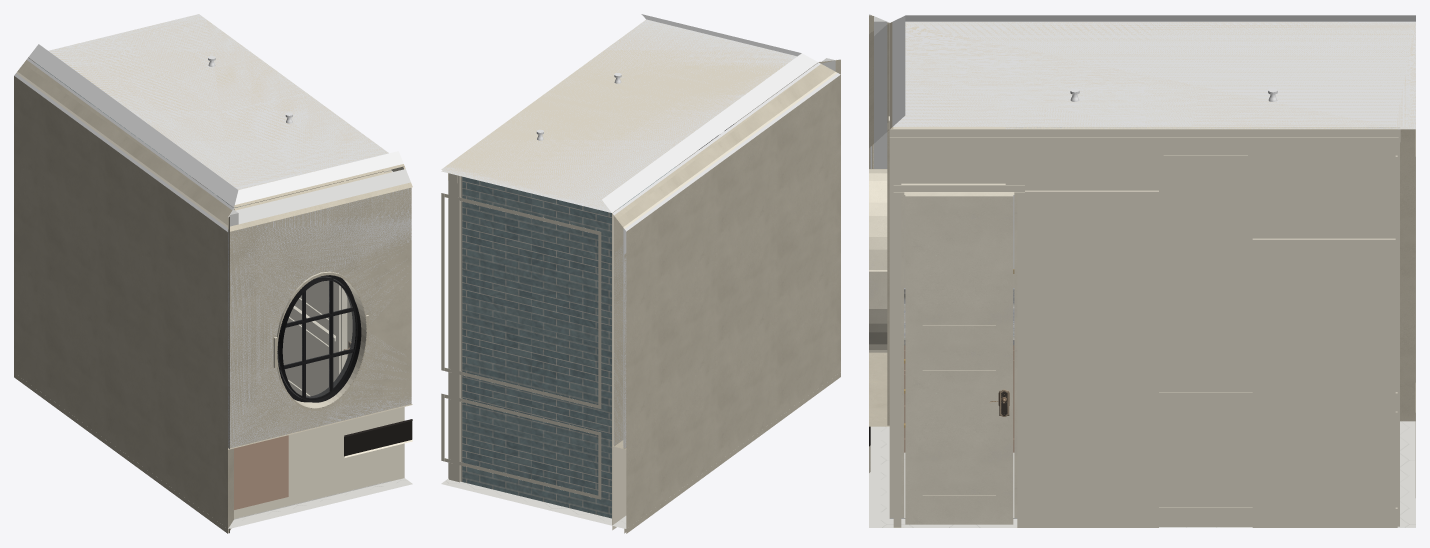
Rendered from blue-bath-57ace6b4a91e.glb.
The picture shows the model from 3 angles, left to right: view 1: azimuth 30°, elevation 25°; view 2: azimuth 150°, elevation 25°; view 3: azimuth 270°, elevation 25°; orthographic projection. The views are drawn at different scales.
Visible parts, largest first — view 1: blue-bath-312b4ac1be39223d, blue-bath-bddaf205afbd60c0, blue-bath-9d91b47435c6fb33, blue-bath-e8793759323e04f0, blue-bath-33ee0b466567e5f0, blue-bath-df3e1f21720b0c39, blue-bath-2f7d8eff34a2c180, blue-bath-99b308e00d07c4e6, blue-bath-39b94aca90fa4b53, blue-bath-c700045fb7c0d89d, blue-bath-bb2a37e95c56944b, blue-bath-15eb02824125a7e3 (+8 smaller); view 2: blue-bath-312b4ac1be39223d, blue-bath-81319d6284883901, blue-bath-e8793759323e04f0, blue-bath-9d91b47435c6fb33, blue-bath-33ee0b466567e5f0, blue-bath-39b94aca90fa4b53, blue-bath-ed5fdcd3ee9c0dd5, blue-bath-3a4d9d62ecd7be1c, blue-bath-06754748489735a0, blue-bath-6e269356ae8bfd70, blue-bath-b63ee86b16afd4c0, blue-bath-0e16aad907f7d881 (+1 smaller); view 3: blue-bath-9d91b47435c6fb33, blue-bath-ed5fdcd3ee9c0dd5, blue-bath-15eb02824125a7e3, blue-bath-ead09a0b3f9e3bd9, blue-bath-bf159a19de53e60e, blue-bath-e8793759323e04f0, blue-bath-8f5d8501f6e548f5, blue-bath-ee54b1ef49f48029, blue-bath-6e269356ae8bfd70, blue-bath-0e16aad907f7d881, blue-bath-cbc06dee74176276, blue-bath-e55ba151bf6688a8 (+10 smaller).
Boxes of the visible parts, x1,y1,x2,y2 form: blue-bath-312b4ac1be39223d: [14, 73, 229, 449]; blue-bath-bddaf205afbd60c0: [230, 182, 411, 447]; blue-bath-9d91b47435c6fb33: [28, 14, 404, 207]; blue-bath-e8793759323e04f0: [30, 14, 403, 204]; blue-bath-33ee0b466567e5f0: [14, 293, 228, 533]; blue-bath-df3e1f21720b0c39: [229, 184, 412, 448]; blue-bath-2f7d8eff34a2c180: [228, 404, 412, 533]; blue-bath-99b308e00d07c4e6: [278, 277, 354, 397]; blue-bath-39b94aca90fa4b53: [17, 60, 238, 226]; blue-bath-c700045fb7c0d89d: [277, 275, 366, 402]; blue-bath-bb2a37e95c56944b: [234, 435, 288, 509]; blue-bath-15eb02824125a7e3: [286, 183, 335, 395]; blue-bath-312b4ac1be39223d: [624, 59, 840, 449]; blue-bath-81319d6284883901: [462, 177, 611, 518]; blue-bath-e8793759323e04f0: [441, 14, 815, 210]; blue-bath-9d91b47435c6fb33: [442, 19, 817, 212]; blue-bath-33ee0b466567e5f0: [612, 293, 840, 533]; blue-bath-39b94aca90fa4b53: [614, 58, 835, 447]; blue-bath-ed5fdcd3ee9c0dd5: [449, 173, 460, 482]; blue-bath-3a4d9d62ecd7be1c: [612, 61, 821, 446]; blue-bath-06754748489735a0: [441, 193, 601, 408]; blue-bath-6e269356ae8bfd70: [441, 170, 618, 524]; blue-bath-b63ee86b16afd4c0: [441, 393, 601, 499]; blue-bath-0e16aad907f7d881: [441, 478, 626, 528]; blue-bath-9d91b47435c6fb33: [890, 21, 1415, 129]; blue-bath-ed5fdcd3ee9c0dd5: [1005, 127, 1399, 527]; blue-bath-15eb02824125a7e3: [1017, 190, 1158, 527]; blue-bath-ead09a0b3f9e3bd9: [1252, 238, 1395, 527]; blue-bath-bf159a19de53e60e: [905, 195, 1013, 524]; blue-bath-e8793759323e04f0: [892, 15, 1415, 126]; blue-bath-8f5d8501f6e548f5: [889, 129, 1398, 146]; blue-bath-ee54b1ef49f48029: [889, 146, 1005, 517]; blue-bath-6e269356ae8bfd70: [1398, 127, 1415, 527]; blue-bath-0e16aad907f7d881: [869, 421, 1415, 527]; blue-bath-cbc06dee74176276: [893, 185, 1024, 527]; blue-bath-e55ba151bf6688a8: [869, 169, 887, 352].
Size of the model in its own units: 1.8 by 3.04 by 3.6.
Materials: 34 (6 with a texture image).
